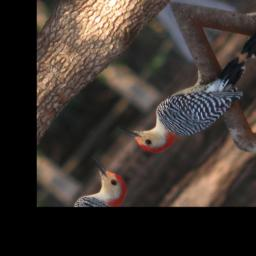Woodpecker: (114, 30, 256, 176)
